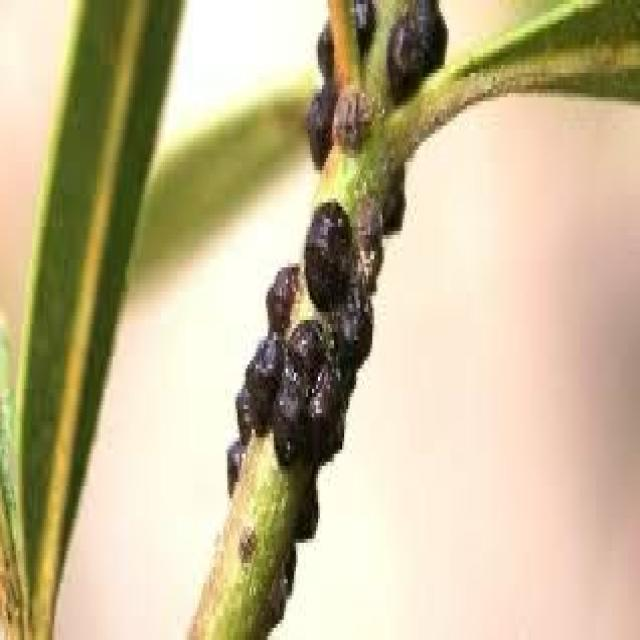Black Scale: (273, 284, 375, 478), (226, 262, 298, 508), (388, 0, 447, 101), (304, 198, 354, 312), (306, 20, 336, 166)
